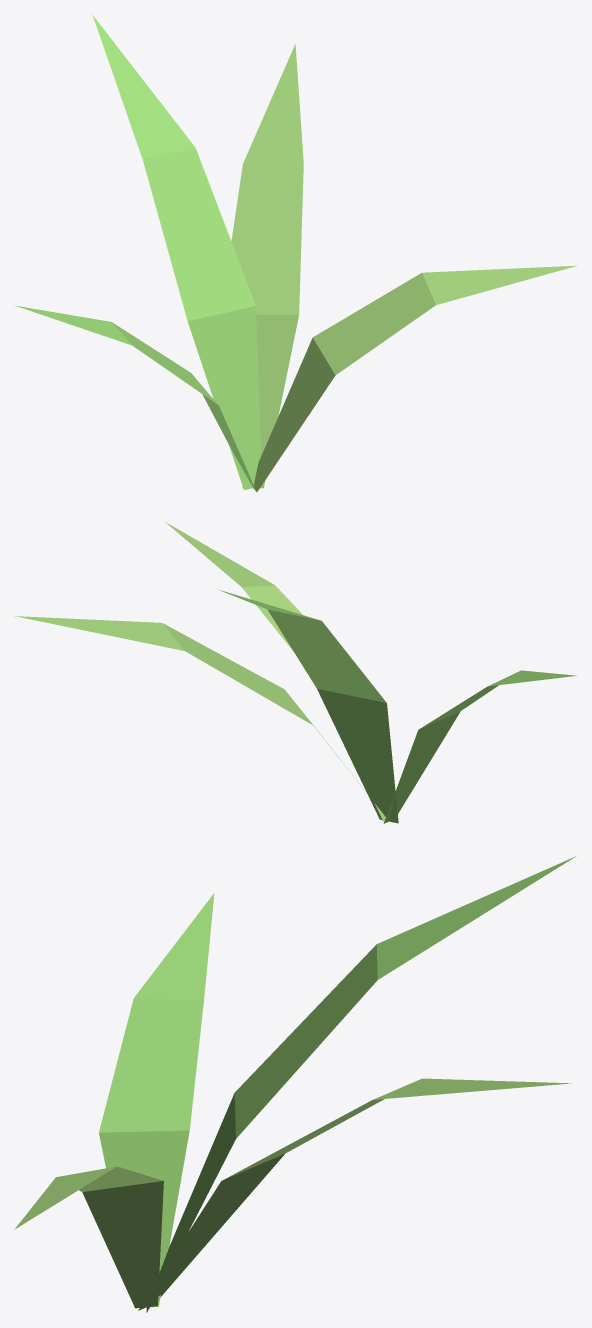
File: Plant_e_OneS_04.fbx
The picture shows the model from 3 angles, top to bottom: view 1: azimuth 30°, elevation 25°; view 2: azimuth 150°, elevation 25°; view 3: azimuth 270°, elevation 25°; orthographic projection. The views are drawn at different scales.
Visible parts, largest first — view 1: Plant_e_OneS_04; view 2: Plant_e_OneS_04; view 3: Plant_e_OneS_04.
Boxes of the visible parts, x1,y1,x2,y2 form: Plant_e_OneS_04: [15, 15, 576, 491]; Plant_e_OneS_04: [14, 522, 576, 823]; Plant_e_OneS_04: [14, 856, 576, 1312].
Bounding box in the file's own units: 0.6712 × 0.4636 × 0.5189.
